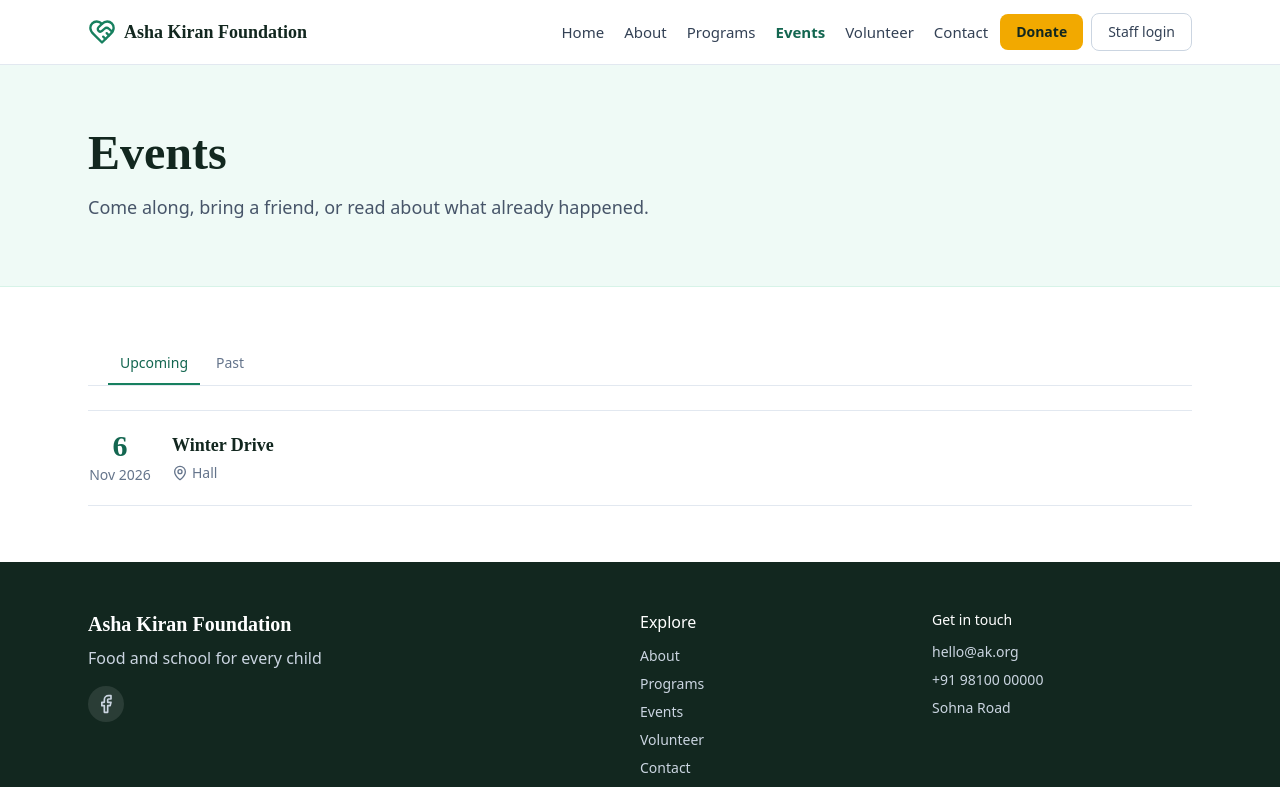
it: programs, events, contact › events: upcoming first, then past on request, with empty messages
Expected: the heading "Winter Drive" is shown, [172,431,274,459]
Expected: the text "6" is shown, [112,429,128,462]
What coordinates should you click on to do the following:
click the tab "Past"
I would click on:
 (230, 364)
Its box is [204,343,256,385].
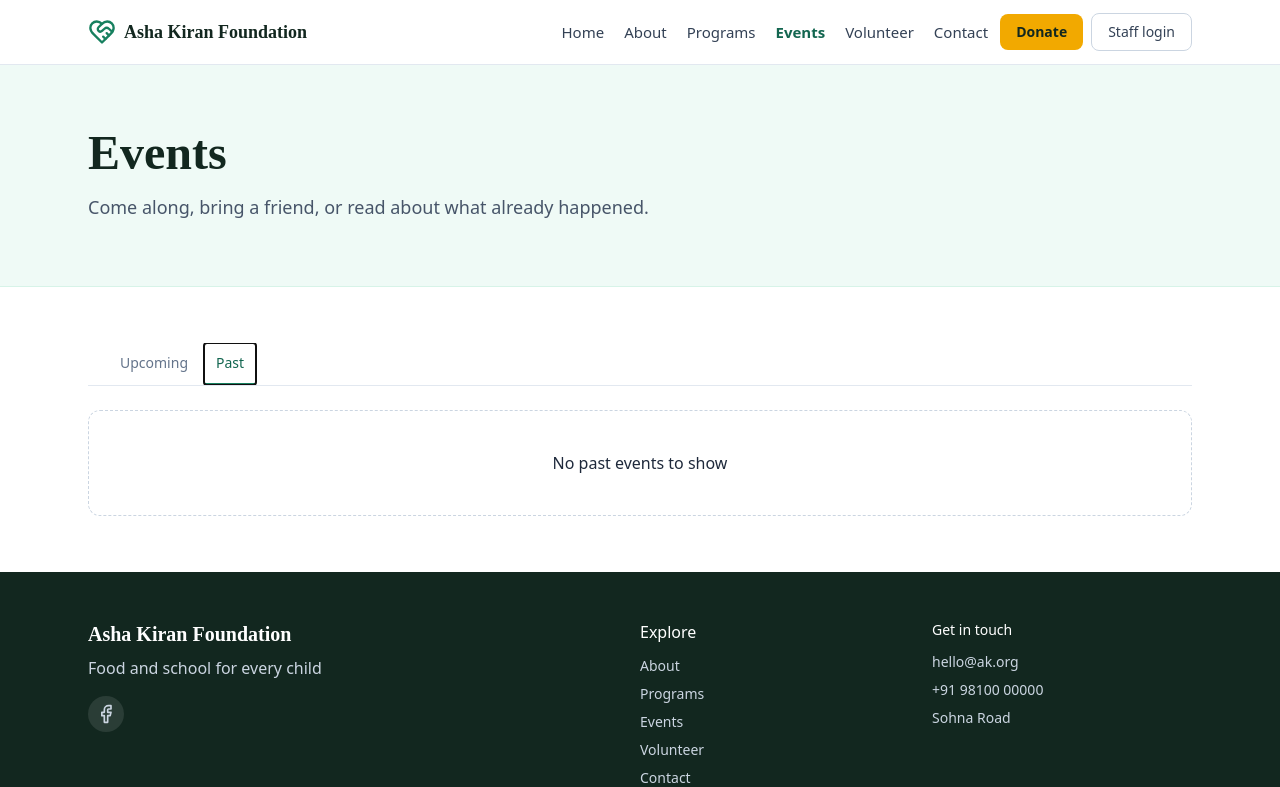
Result: the text "No past events to show" is shown at [553,452,728,474]
